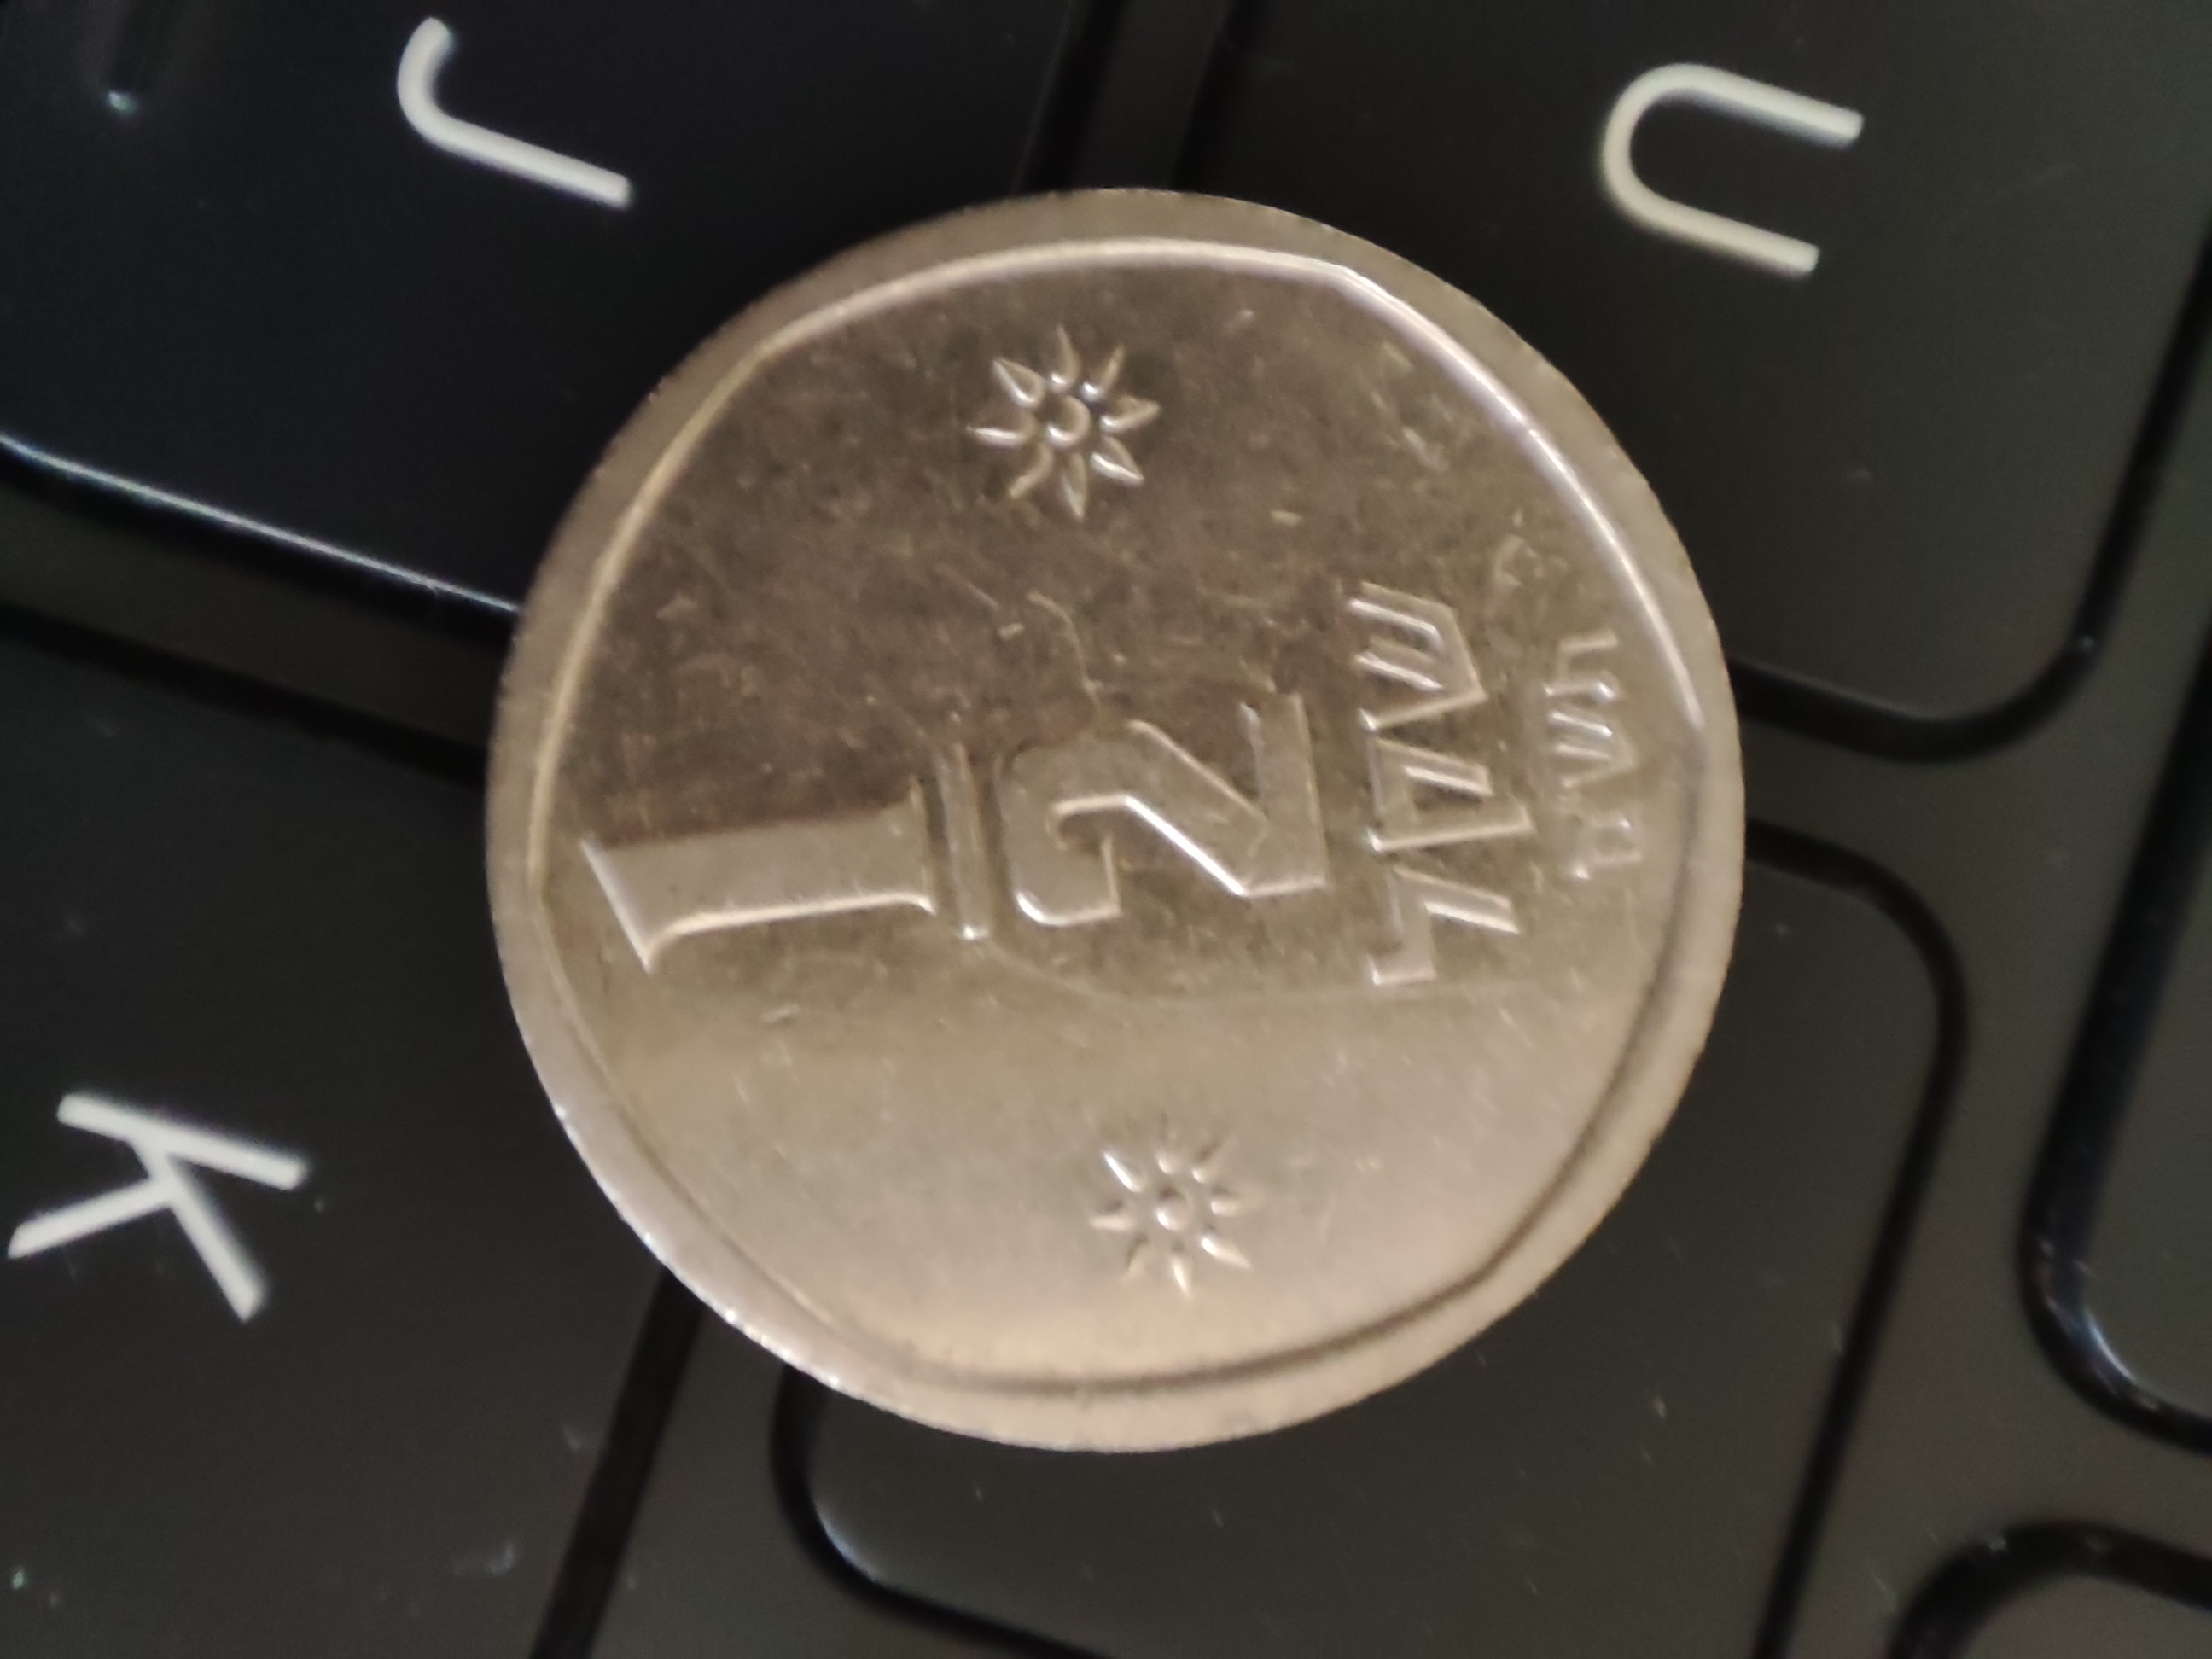1/2 old sheqel: (479, 181, 1754, 1459)
